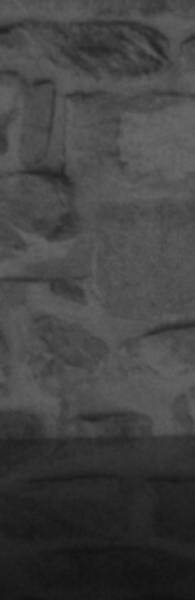water: (0, 438, 195, 600)
